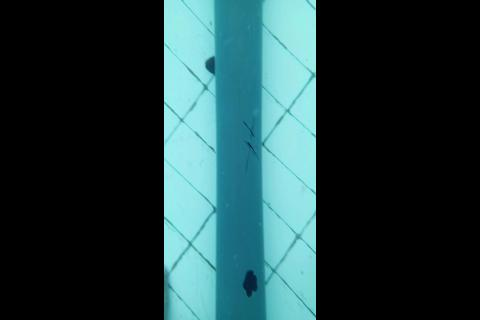kebocoran: (242, 269, 259, 297)
keretakan: (242, 118, 259, 170)
